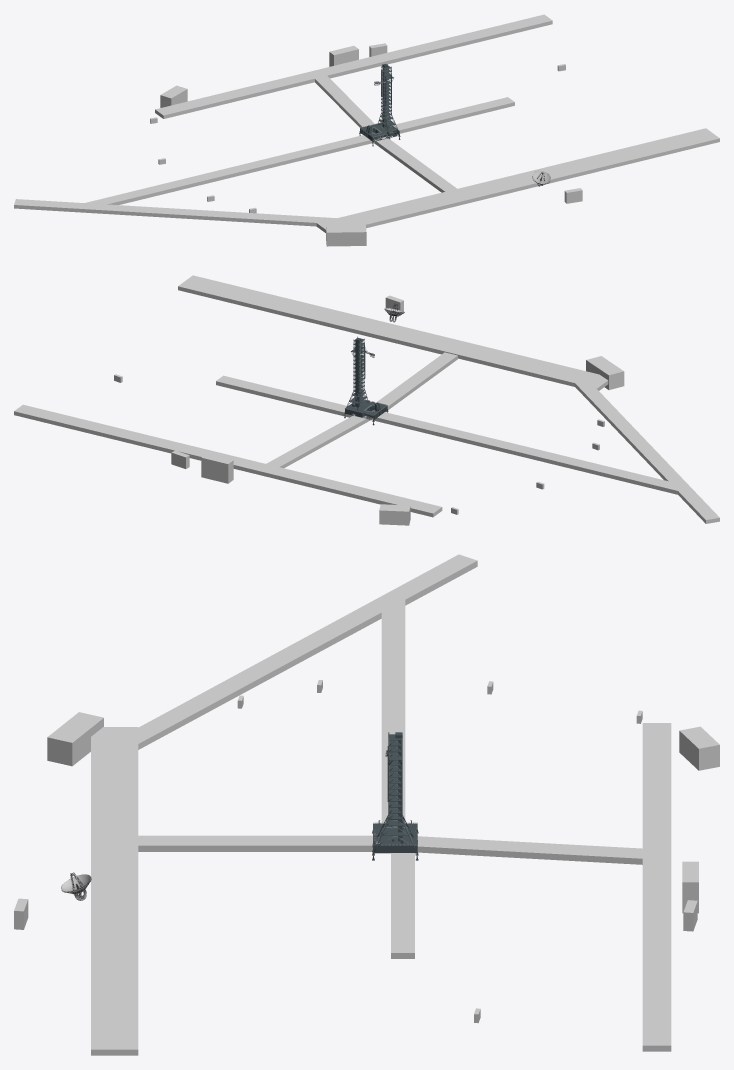
Rendered from EarthLaunchSite.glb.
3 renders of one model, top to bottom at view 1: azimuth 30°, elevation 25°; view 2: azimuth 150°, elevation 25°; view 3: azimuth 270°, elevation 25°, orthographic. The views are drawn at different scales.
Parts seen in each view (by area): view 1: Cube.005, Cube.002, Cube.006, Cube, ML_HP, Cube.003, Cube.001, Cube.004, Cube.009, Cube.007, Cube.008; view 2: Cube.005, Cube.002, Cube, Cube.006, Cube.003, ML_HP, Cube.004, Cube.001, Cube.007, Cube.009, Cube.008; view 3: Cube.005, Cube.002, Cube.006, Cube, Cube.001, Cube.004, ML_HP, Cube.003, Cube.009, Cube.008.
Boxes of the visible parts, x1=… form: Cube.005: x1=316, y1=128, x2=719, y2=232; Cube.002: x1=155, y1=14, x2=552, y2=118; Cube.006: x1=14, y1=199, x2=340, y2=226; Cube: x1=84, y1=135, x2=374, y2=208; ML_HP: x1=359, y1=63, x2=400, y2=146; Cube.003: x1=386, y1=97, x2=514, y2=136; Cube.001: x1=374, y1=137, x2=456, y2=192; Cube.004: x1=314, y1=75, x2=374, y2=127; Cube.009: x1=326, y1=225, x2=366, y2=246; Cube.007: x1=329, y1=45, x2=358, y2=66; Cube.008: x1=160, y1=85, x2=187, y2=107; Cube.005: x1=178, y1=275, x2=608, y2=390; Cube.002: x1=14, y1=404, x2=442, y2=517; Cube: x1=372, y1=412, x2=684, y2=494; Cube.006: x1=573, y1=379, x2=719, y2=523; Cube.003: x1=216, y1=375, x2=353, y2=417; ML_HP: x1=343, y1=336, x2=388, y2=425; Cube.004: x1=266, y1=415, x2=372, y2=468; Cube.001: x1=376, y1=352, x2=457, y2=409; Cube.007: x1=201, y1=454, x2=233, y2=483; Cube.009: x1=586, y1=356, x2=624, y2=389; Cube.008: x1=379, y1=504, x2=410, y2=525; Cube.005: x1=91, y1=727, x2=138, y2=1055; Cube.002: x1=642, y1=723, x2=671, y2=1051; Cube.006: x1=116, y1=554, x2=477, y2=749; Cube: x1=381, y1=598, x2=405, y2=823; Cube.001: x1=138, y1=835, x2=379, y2=851; Cube.004: x1=417, y1=836, x2=644, y2=864; ML_HP: x1=372, y1=732, x2=418, y2=860; Cube.003: x1=391, y1=853, x2=414, y2=958; Cube.009: x1=47, y1=712, x2=103, y2=766; Cube.008: x1=679, y1=726, x2=719, y2=770.
Size of the model in its own units: 1214 by 151 by 731.
Materials: 3 (3 with a texture image).
